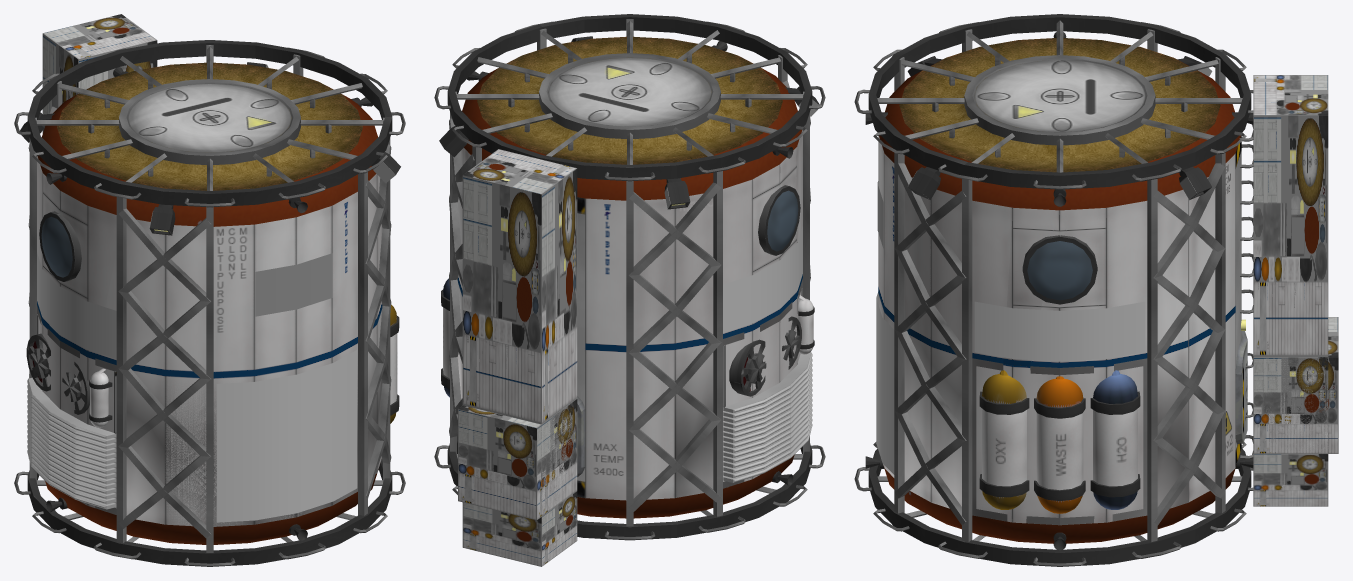
File: MCM.FBX
3 renders of one model, left to right at view 1: azimuth 30°, elevation 25°; view 2: azimuth 150°, elevation 25°; view 3: azimuth 270°, elevation 25°, orthographic. The views are drawn at different scales.
Parts seen in each view (by area): view 1: Body, EndCap001, BodyClean2, logoPanel001, StructuralRing001, StructuralRing002, Ladder003, EndCap002, flagTransform, Girder045, Girder055, logoPanel002 (+37 smaller); view 2: EndCap001, BodyClean2, Ladder003, StructuralRing001, Body, Airlock, Ladder001, StructuralRing002, Ladder002, EndCap002, Girder024, logoPanel002 (+40 smaller); view 3: EndCap001, Body, BodyClean2, Ladder003, StructuralRing001, Ladder002, StructuralRing002, logoPanel003, EndCap002, StorageTank001, StorageTank003, StorageTank002 (+45 smaller).
Part boxes in pixels (x1,y1,x2,y2): Body: [37, 156, 382, 526]; EndCap001: [37, 62, 377, 226]; BodyClean2: [38, 173, 377, 526]; logoPanel001: [216, 350, 357, 522]; StructuralRing001: [27, 40, 392, 207]; StructuralRing002: [27, 458, 392, 566]; Ladder003: [42, 14, 157, 133]; EndCap002: [45, 470, 378, 544]; flagTransform: [255, 253, 332, 316]; Girder045: [116, 197, 126, 543]; Girder055: [358, 172, 367, 515]; logoPanel002: [37, 253, 116, 358]; EndCap001: [462, 36, 801, 200]; BodyClean2: [463, 130, 802, 500]; Ladder003: [462, 149, 577, 424]; StructuralRing001: [447, 14, 812, 181]; Body: [457, 135, 802, 497]; Airlock: [458, 402, 572, 520]; Ladder001: [462, 491, 577, 566]; StructuralRing002: [447, 434, 812, 540]; Ladder002: [463, 399, 577, 516]; EndCap002: [577, 455, 794, 518]; Girder024: [713, 171, 722, 516]; logoPanel002: [723, 226, 802, 332]; EndCap001: [879, 38, 1240, 210]; Body: [878, 136, 1233, 525]; BodyClean2: [884, 136, 1241, 523]; Ladder003: [1253, 75, 1328, 356]; StructuralRing001: [868, 14, 1251, 189]; Ladder002: [1253, 357, 1328, 453]; StructuralRing002: [868, 448, 1251, 566]; logoPanel003: [974, 301, 1145, 360]; EndCap002: [884, 466, 1236, 543]; StorageTank001: [1036, 376, 1083, 513]; StorageTank003: [982, 370, 1026, 509]; StorageTank002: [1093, 370, 1137, 509].
Size of what is drawn, in the model's own units: 2.68 by 2.82 by 3.16.
